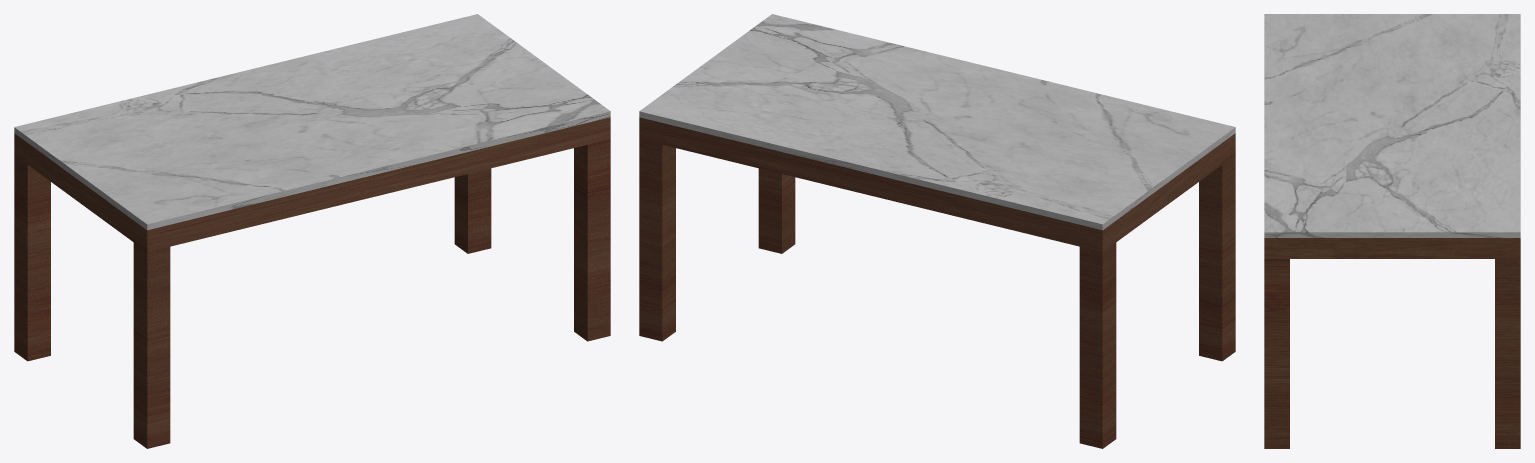
File: table.fbx
3 views of the same model, side by side, from view 1: azimuth 30°, elevation 25°; view 2: azimuth 150°, elevation 25°; view 3: azimuth 270°, elevation 25° (orthographic). The views are drawn at different scales.
Visible parts, largest first — view 1: Cube.001, Cube; view 2: Cube.001, Cube; view 3: Cube.001, Cube.
Part boxes in pixels (<box>): Cube.001: <box>14,14,610,230</box>; Cube: <box>14,117,610,448</box>; Cube.001: <box>639,14,1235,230</box>; Cube: <box>639,117,1235,448</box>; Cube.001: <box>1264,14,1520,237</box>; Cube: <box>1264,238,1520,448</box>.
Bounding box in the file's own units: 2000 × 926 × 994.
